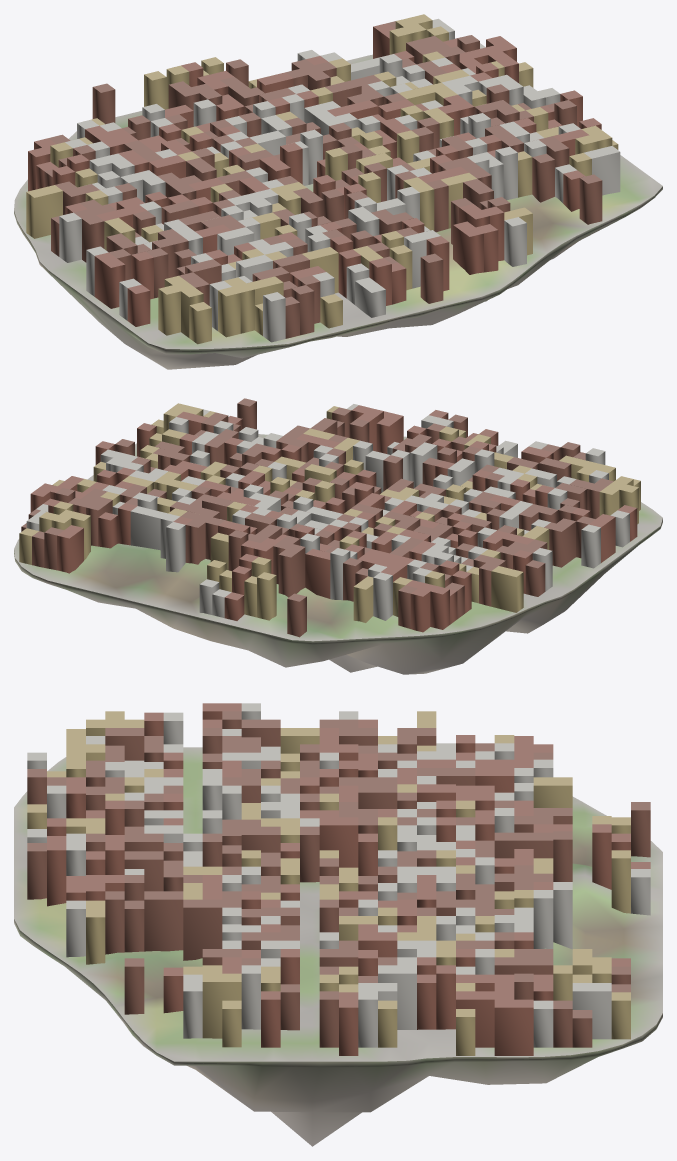
Rendered from SKY-004.lod1.glb.
3 renders of one model, top to bottom at view 1: azimuth 30°, elevation 25°; view 2: azimuth 150°, elevation 25°; view 3: azimuth 270°, elevation 25°, orthographic. The views are drawn at different scales.
Parts seen in each view (by area): view 1: warren_hull, deck, rock; view 2: warren_hull, deck, rock; view 3: warren_hull, deck, rock.
Boxes of the visible parts, x1=… form: warren_hull: x1=26, y1=14, x2=620, y2=344; deck: x1=14, y1=54, x2=662, y2=349; rock: x1=14, y1=186, x2=662, y2=369; warren_hull: x1=19, y1=398, x2=640, y2=637; deck: x1=14, y1=434, x2=662, y2=641; rock: x1=14, y1=518, x2=662, y2=674; warren_hull: x1=27, y1=703, x2=650, y2=1055; deck: x1=14, y1=747, x2=662, y2=1061; rock: x1=14, y1=919, x2=662, y2=1146.
Size of the model in its own units: 229 by 77.89 by 200.
